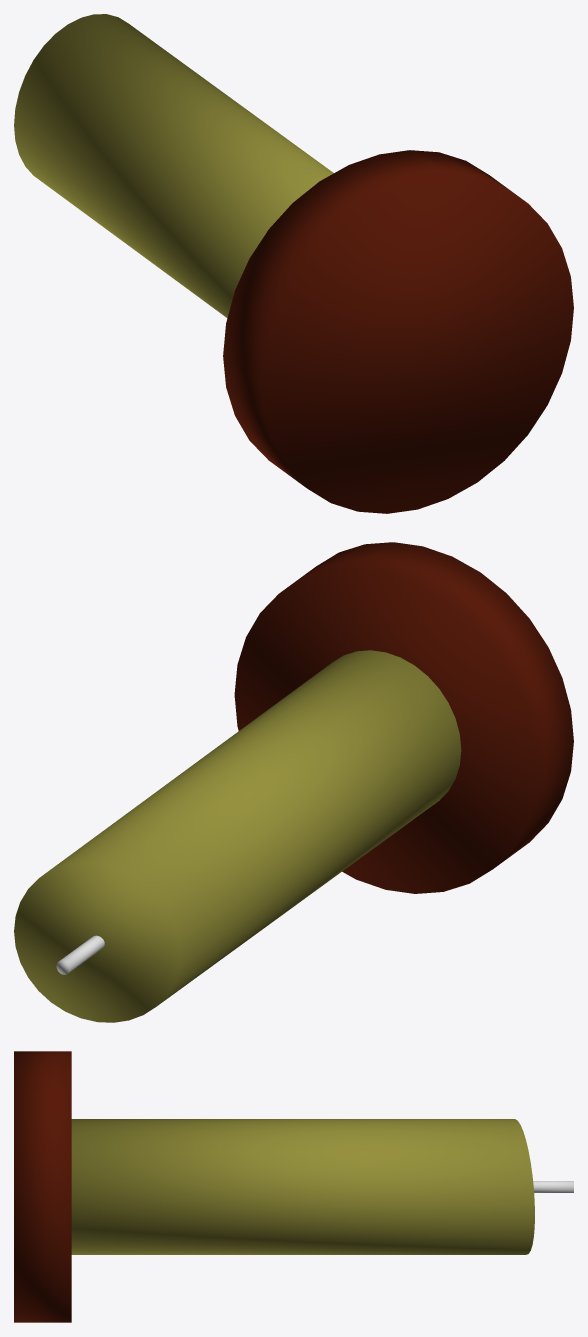
The model's file is TCandle.fbx.
3 views of the same model, one above another, from view 1: azimuth 30°, elevation 25°; view 2: azimuth 150°, elevation 25°; view 3: azimuth 270°, elevation 25° (orthographic). The views are drawn at different scales.
Visible parts, largest first — view 1: Cylinder; view 2: Cylinder; view 3: Cylinder.
Part boxes in pixels (<box>): Cylinder: <box>14,14,573,513</box>; Cylinder: <box>14,542,573,1022</box>; Cylinder: <box>14,1051,573,1322</box>.
Bounding box in the file's own units: 0.1615 × 0.1615 × 0.3329.
